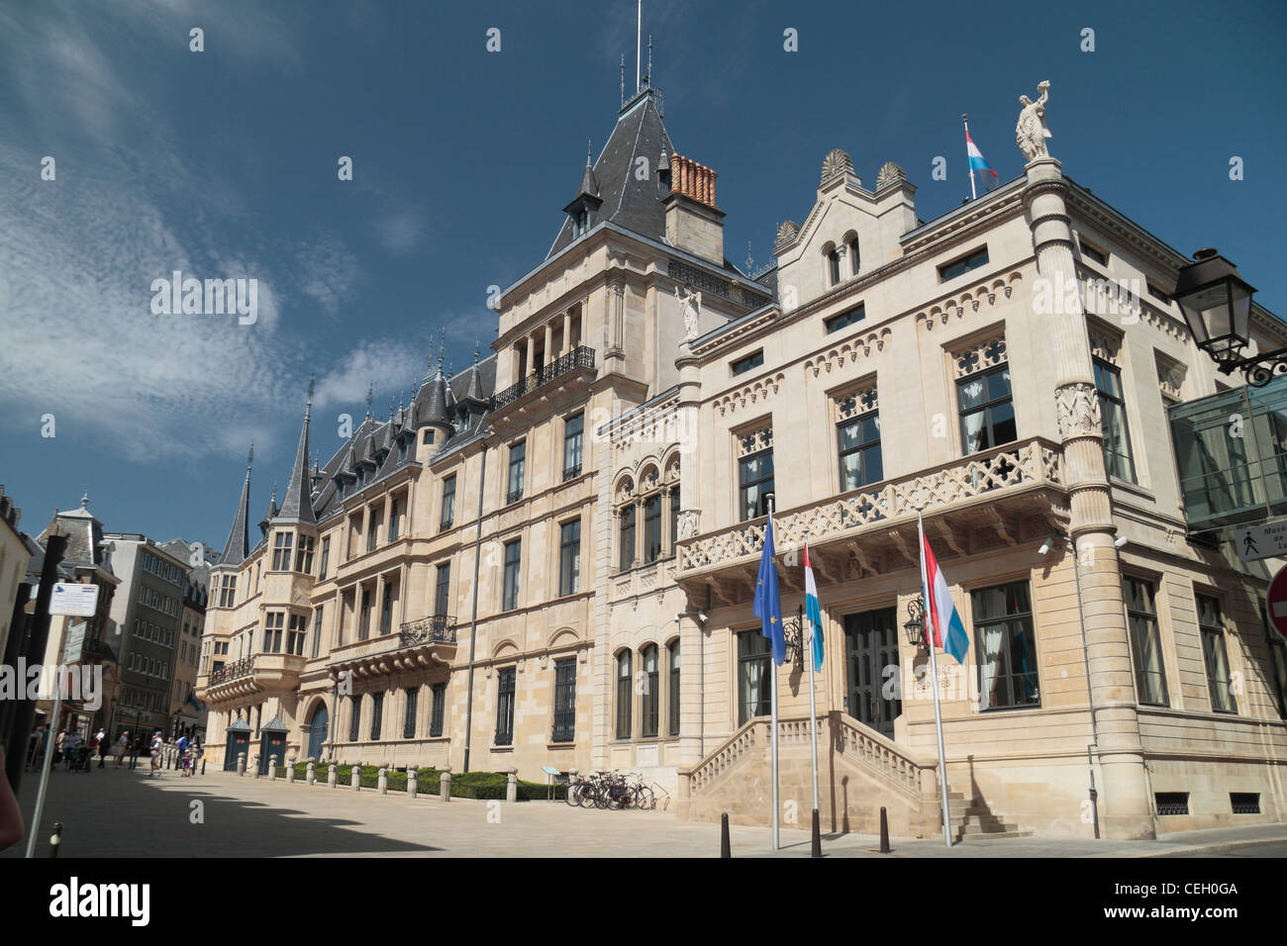Videoprojecteur: (820, 733, 1134, 878)
